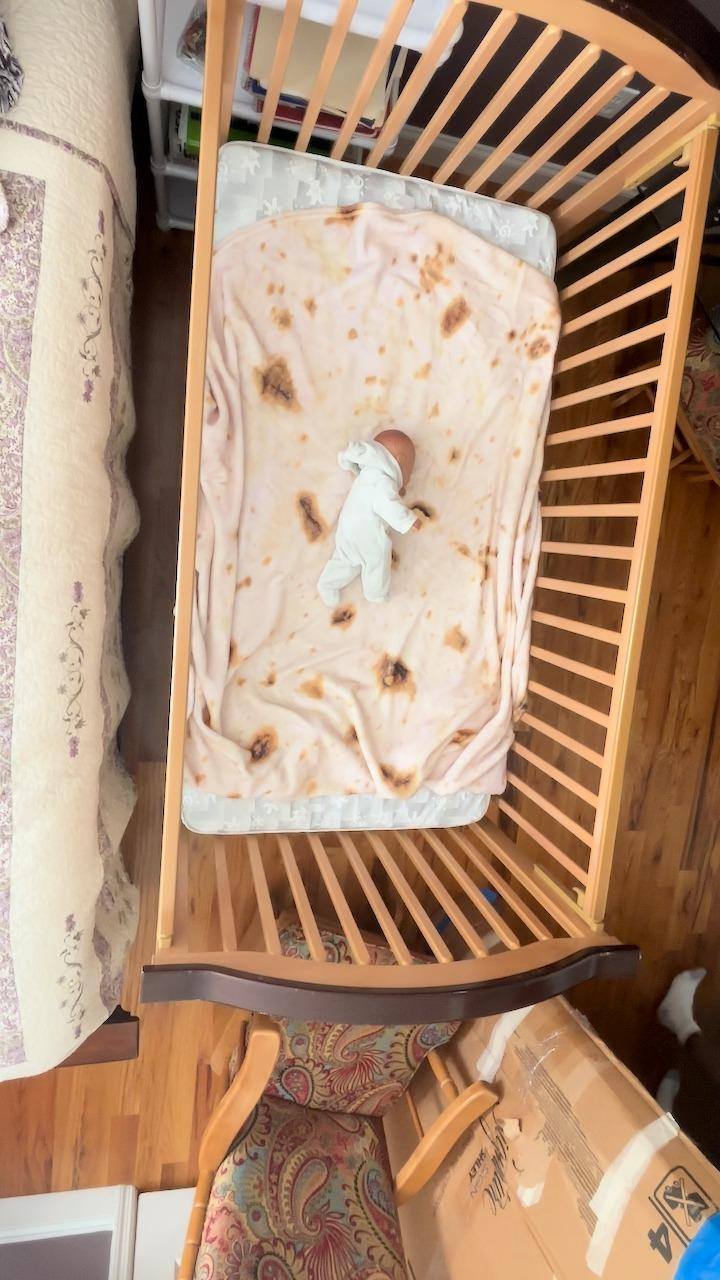baby: (304, 426, 436, 614)
